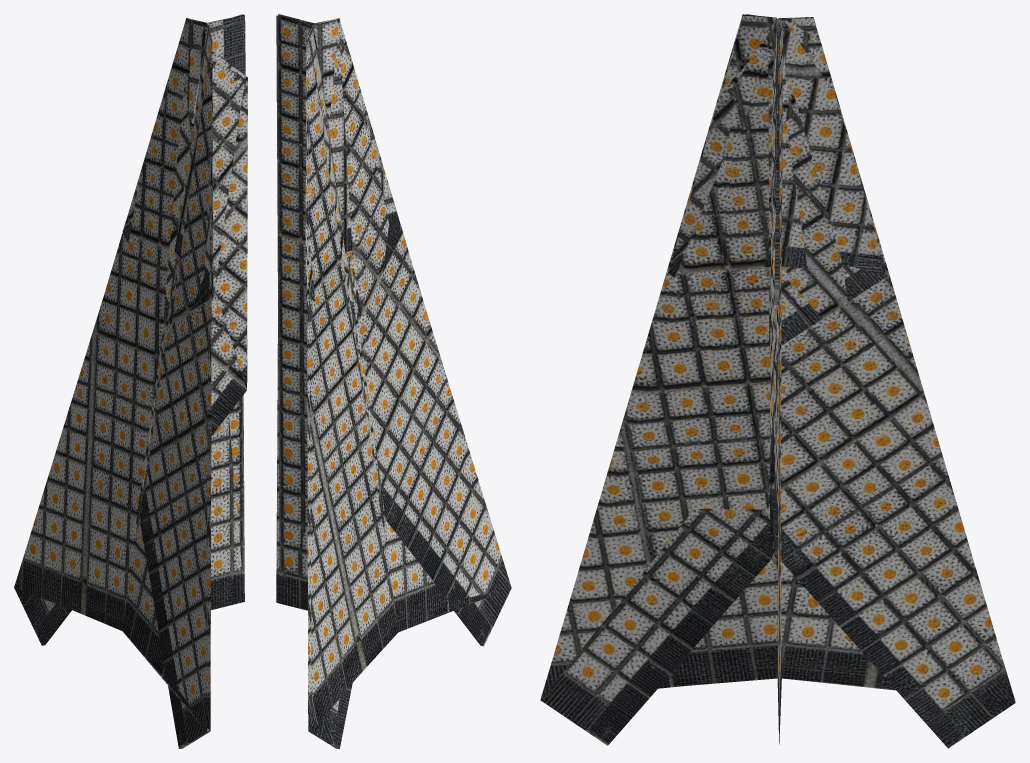
3 renders of one model, left to right at view 1: azimuth 30°, elevation 25°; view 2: azimuth 150°, elevation 25°; view 3: azimuth 270°, elevation 25°, orthographic. The views are drawn at different scales.
Visible parts, largest first — view 1: Origami_Model_03.001; view 2: Origami_Model_03.001; view 3: Origami_Model_03.001.
Boxes of the visible parts, left/top/right/bottom form: Origami_Model_03.001: left=14, top=14, right=247, bottom=748; Origami_Model_03.001: left=276, top=14, right=511, bottom=748; Origami_Model_03.001: left=540, top=14, right=1015, bottom=748.
Size of the model in its own units: 0.039 by 0.1777 by 0.0973.
Materials: 1 (1 with a texture image).
